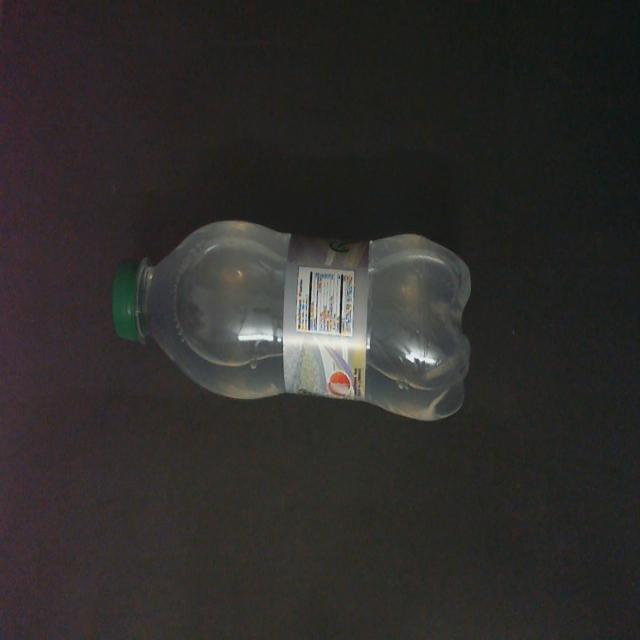non-defect: (110, 218, 472, 424)
